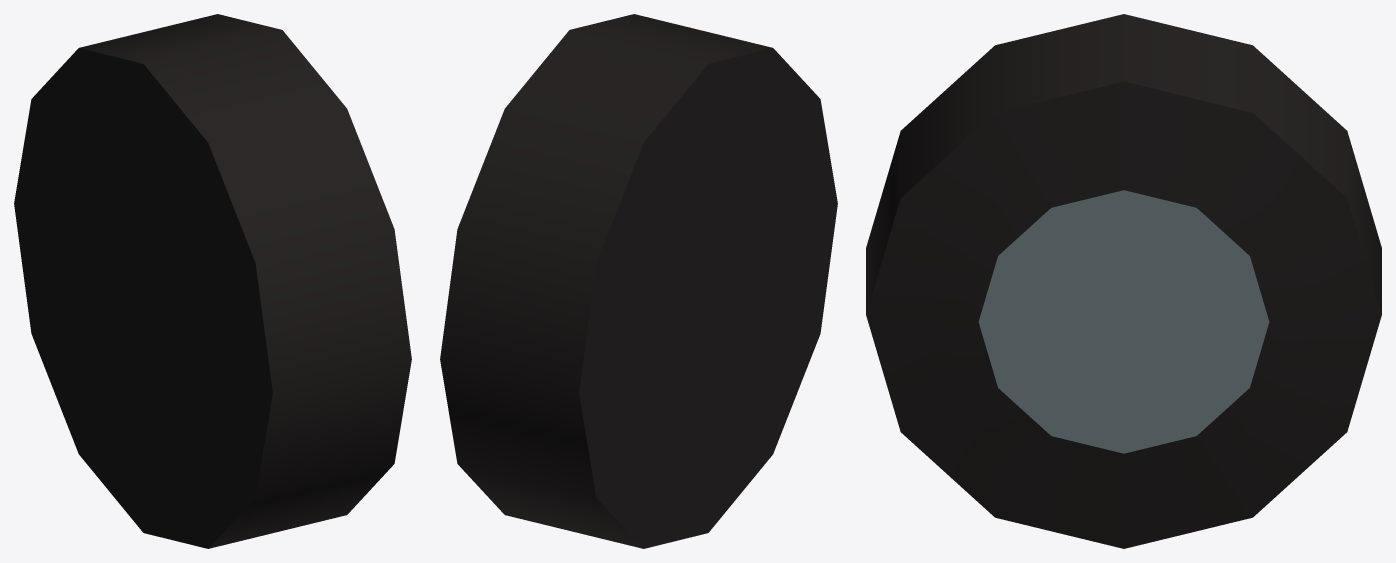
The model's file is van_wheel.fbx.
3 views of the same model, side by side, from view 1: azimuth 30°, elevation 25°; view 2: azimuth 150°, elevation 25°; view 3: azimuth 270°, elevation 25° (orthographic).
Parts seen in each view (by area): view 1: van_wheel; view 2: van_wheel; view 3: van_wheel.
Boxes of the visible parts, x1,y1,x2,y2 form: van_wheel: (14,14,411,548); van_wheel: (440,14,837,548); van_wheel: (866,14,1381,548).
Bounding box in the file's own units: 23.68 × 69.51 × 69.51.
